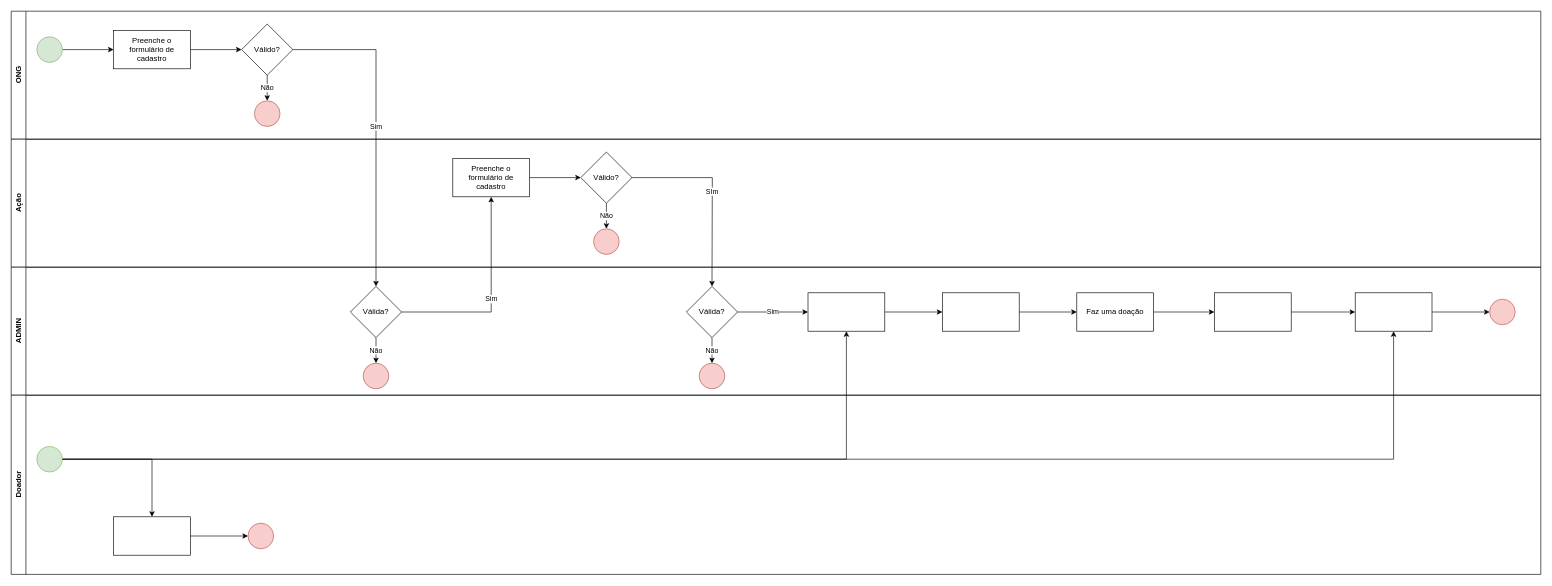
Image size: 1552x586. Some labels were removed from this diagram. Each missing label, with the centre of its shape:
"Acessa os detalhes das ações" belongs at (980,311).
"Contabiliza os pontos da ação no perfil do usuário" belongs at (1252,311).
"Lista as ações" belongs at (846,311).
"Lista o top 10 usuários com mais pontos" belongs at (1393,311).
"Lista os detalhes do perfil do usuário" belongs at (151,535).
